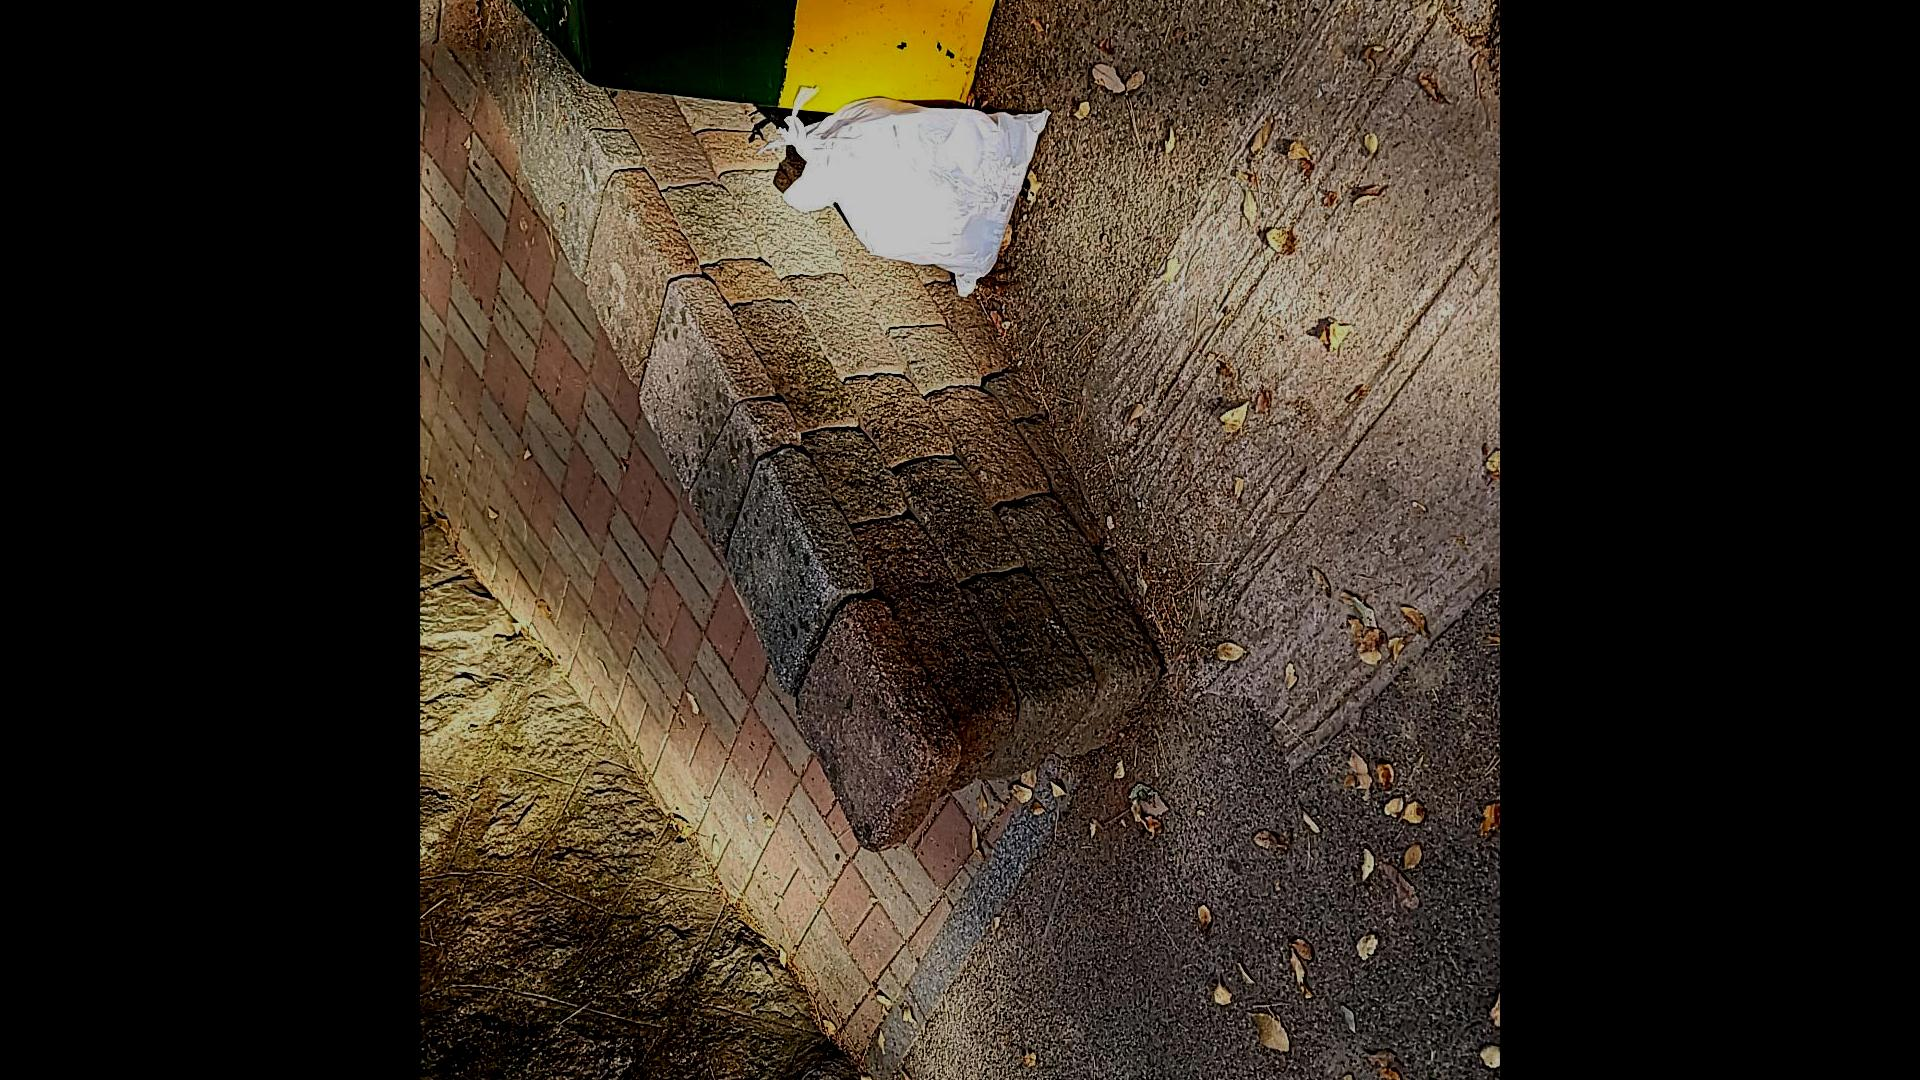white_bag: (750, 76, 1062, 305)
